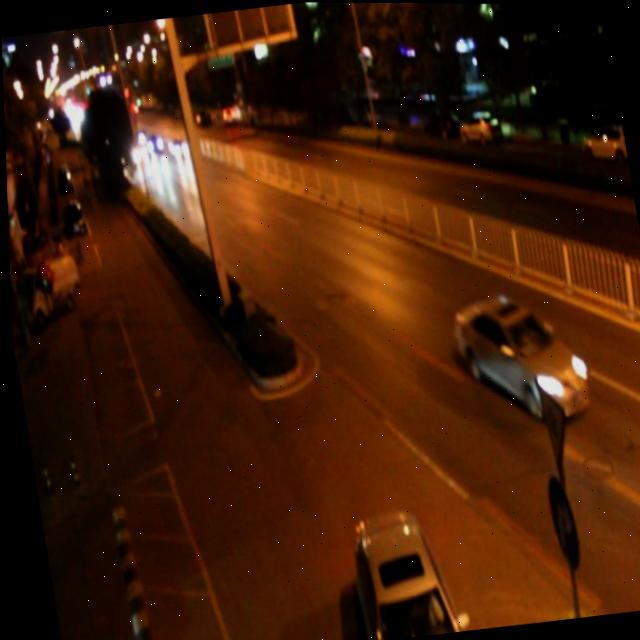car: (447, 285, 590, 427), (338, 503, 462, 640), (165, 133, 190, 162), (143, 132, 162, 154), (219, 103, 237, 124)
